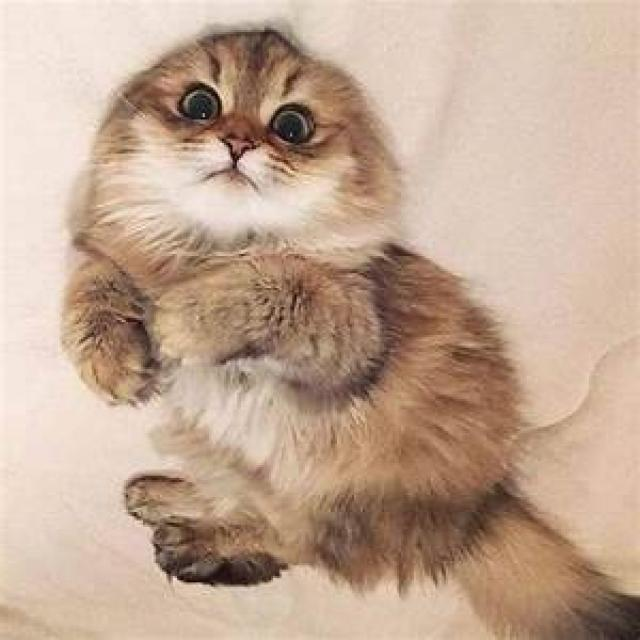animal: (60, 25, 640, 637)
